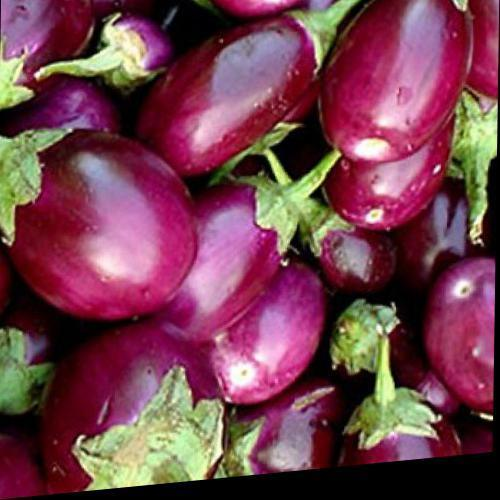eggplant: (2, 0, 494, 488), (21, 114, 202, 322), (167, 144, 337, 356), (37, 322, 223, 496), (132, 7, 350, 150), (320, 0, 479, 190)
